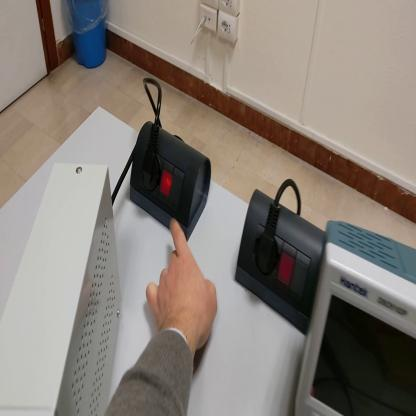hand: (148, 219, 219, 350)
oscilloscope: (294, 221, 416, 416)
power supply: (2, 164, 123, 416)
socket: (234, 187, 328, 338), (132, 122, 216, 239)
